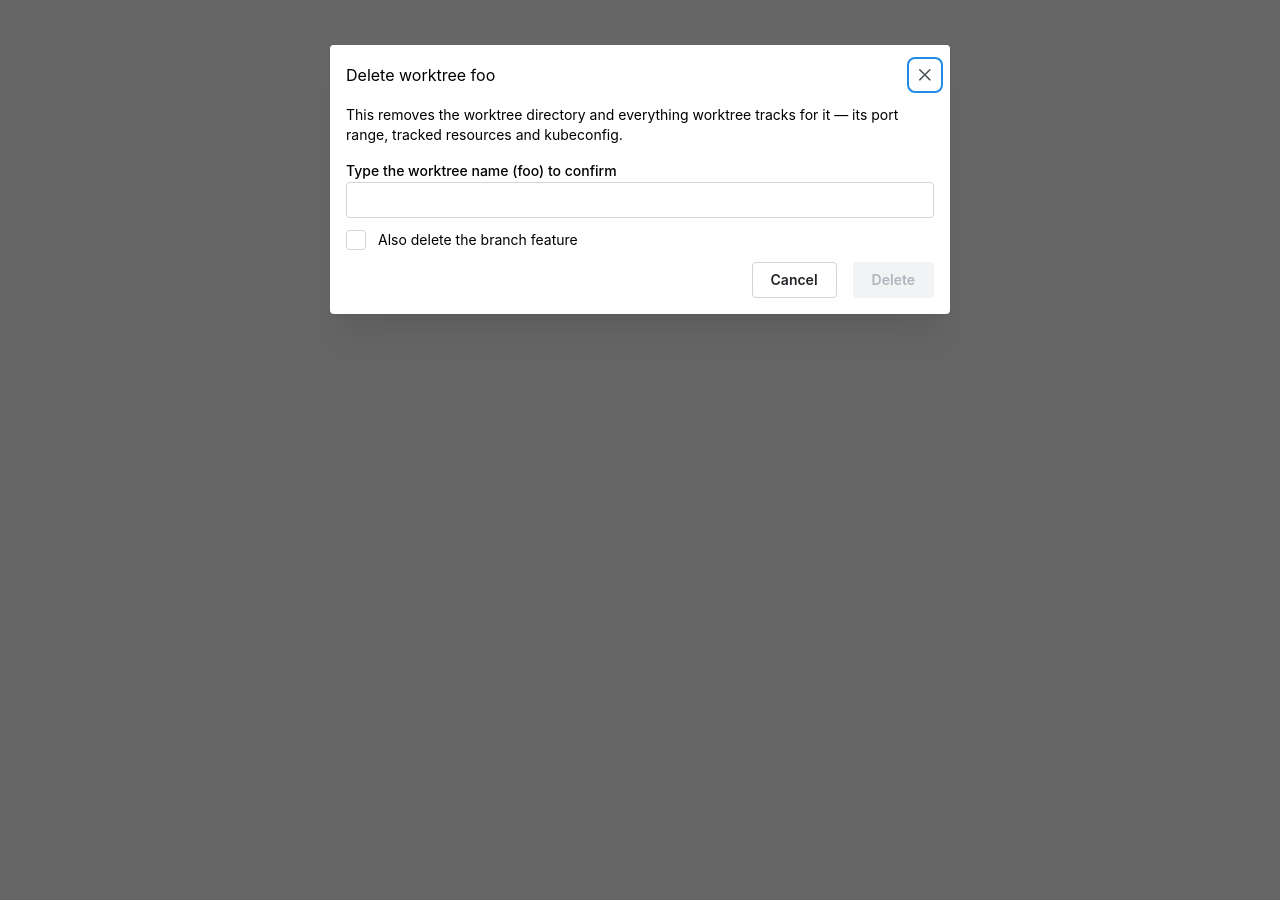
Scenario: DeleteWorktreeModal › keeps showing a job that left the store
The width and height of the screenshot is (1280, 900).
In the field labelled "Type the worktree name (foo) to confirm": {"x": 640, "y": 200} [346,182,934,218], type "foo"
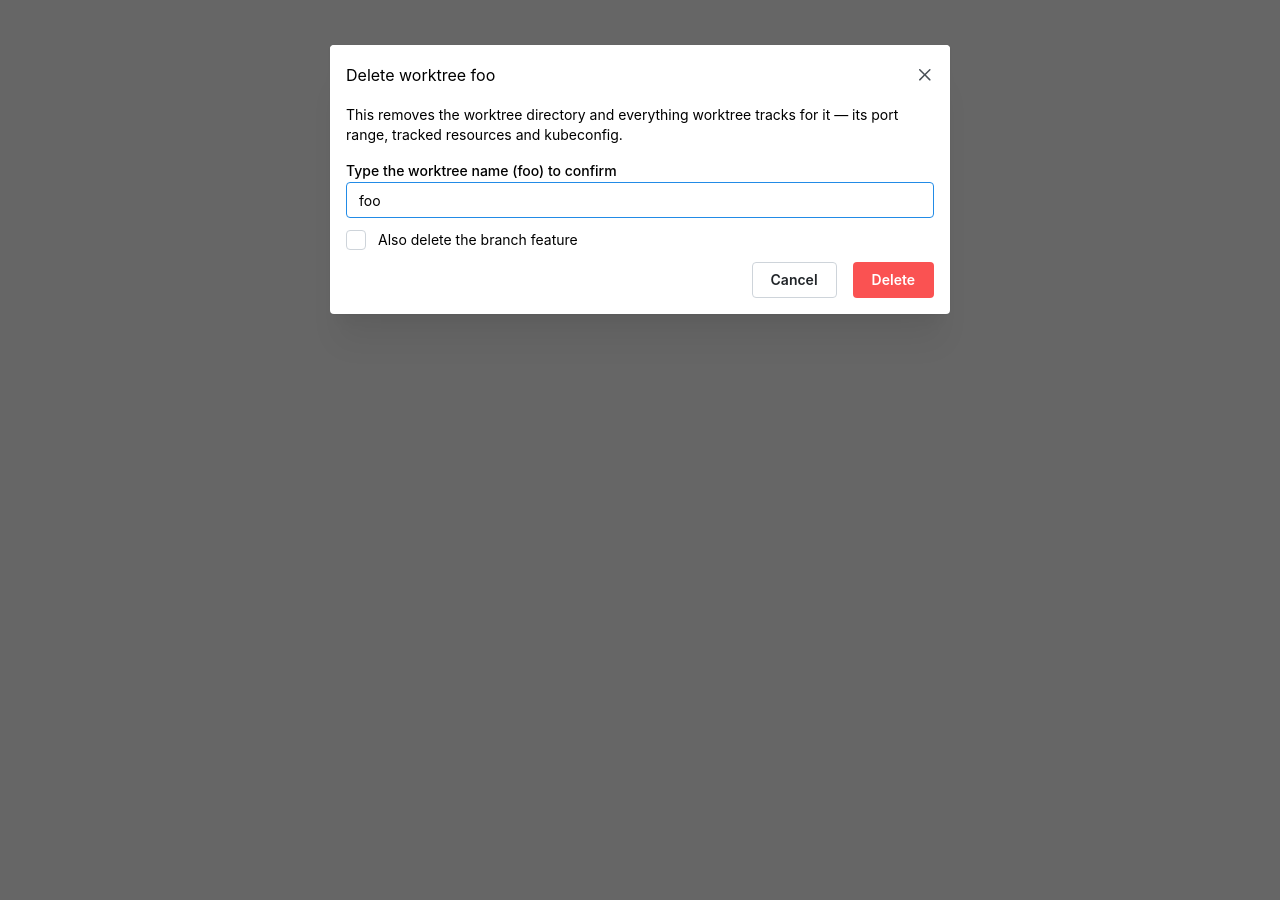
Click the button "Delete": {"x": 893, "y": 280} [853,262,934,298]
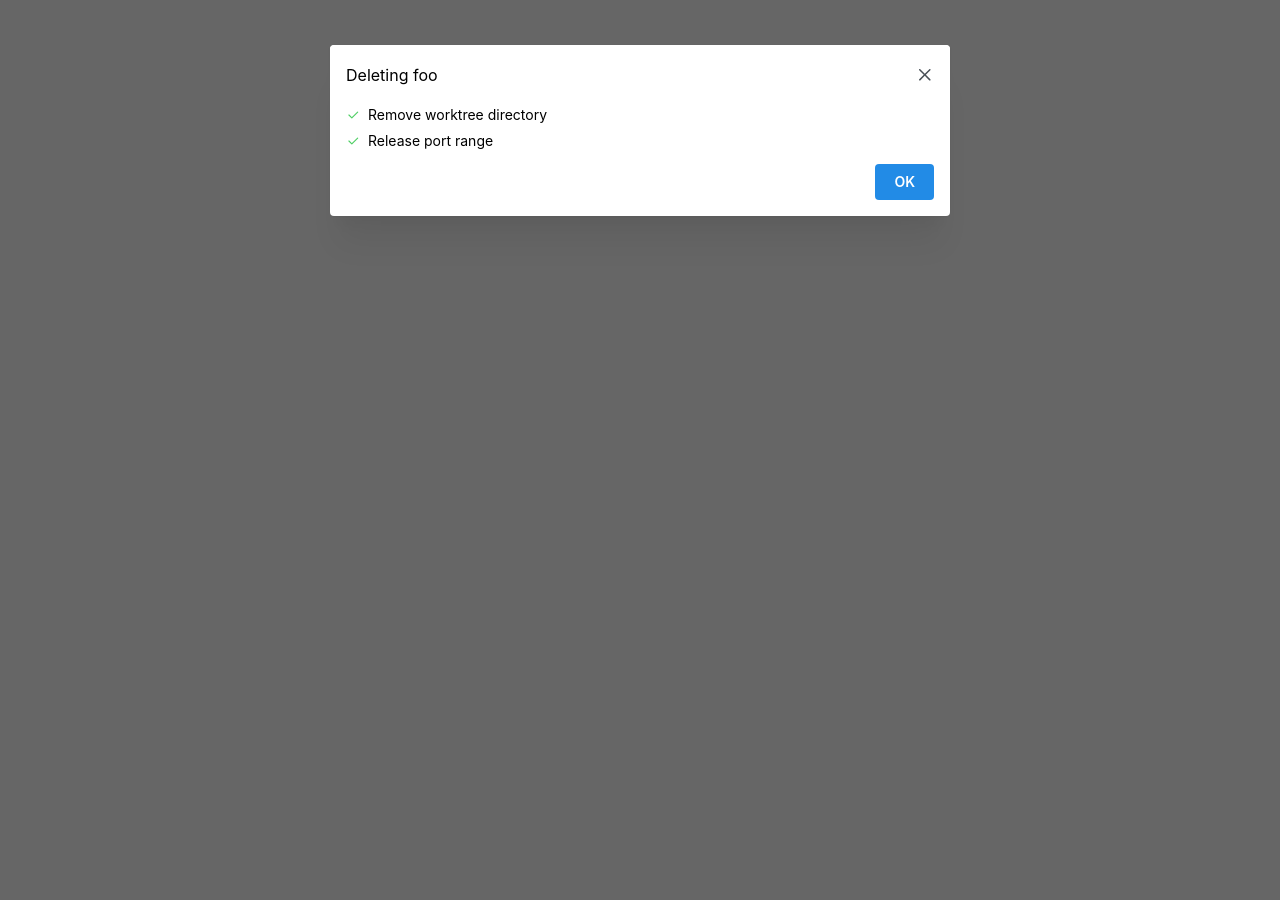
Now the text "Remove worktree directory" is shown, box [368,105,547,125]
Now the button "OK" is shown, box [875,164,934,200]
